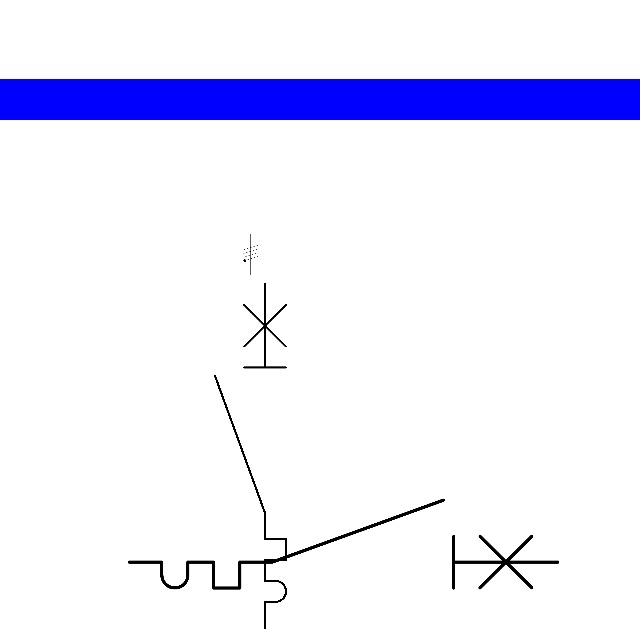interruptor_termomagnetico: (118, 489, 569, 599), (206, 275, 295, 637)
